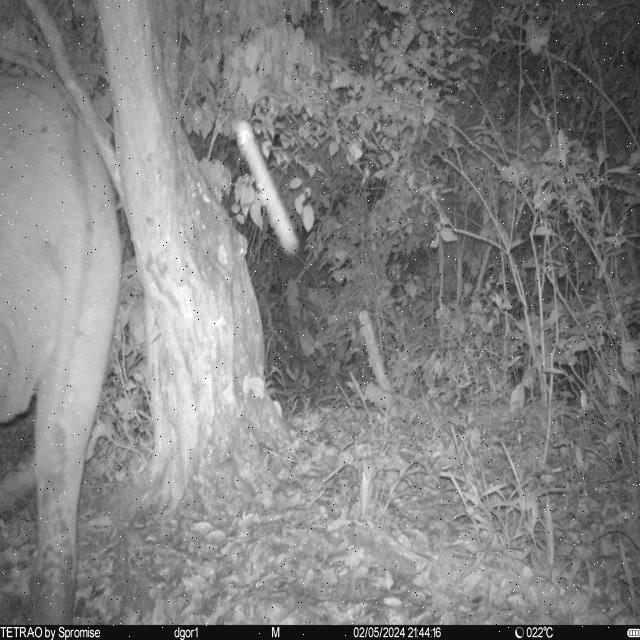elephant: (0, 73, 123, 622)
